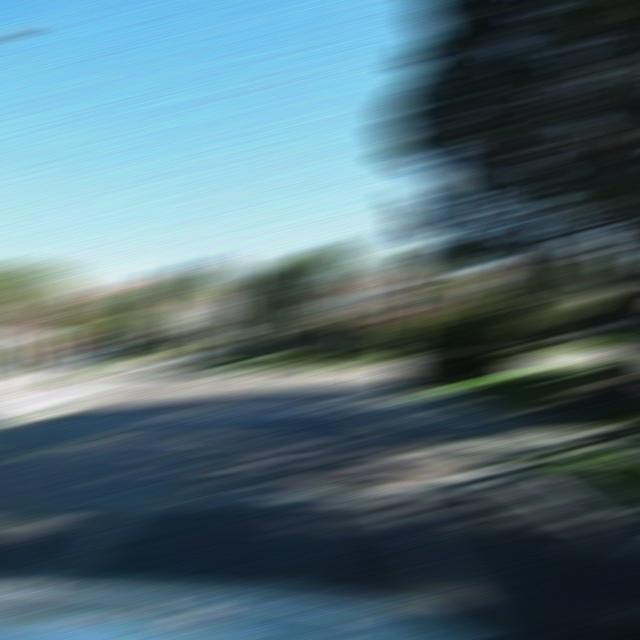stop_sign: (404, 292, 445, 316)
